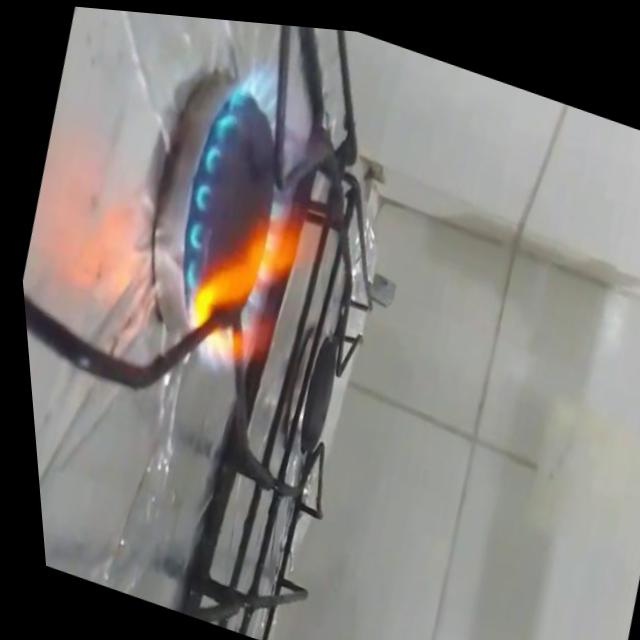Fire: (138, 37, 380, 408)
